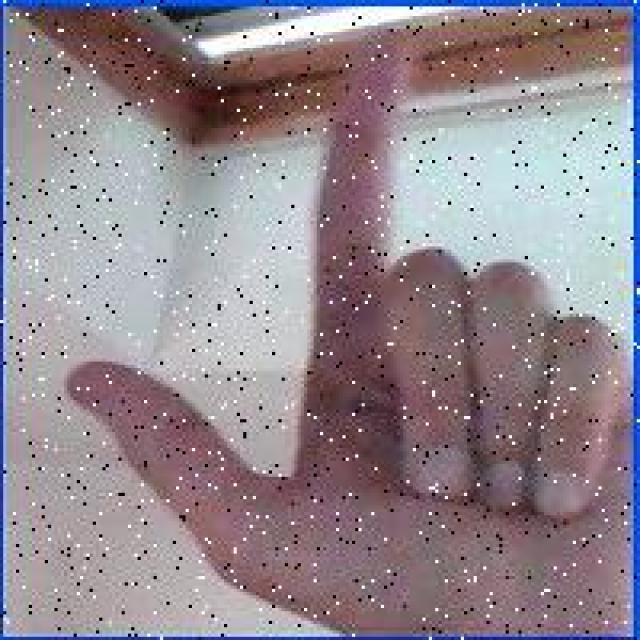L: (61, 25, 630, 630)
